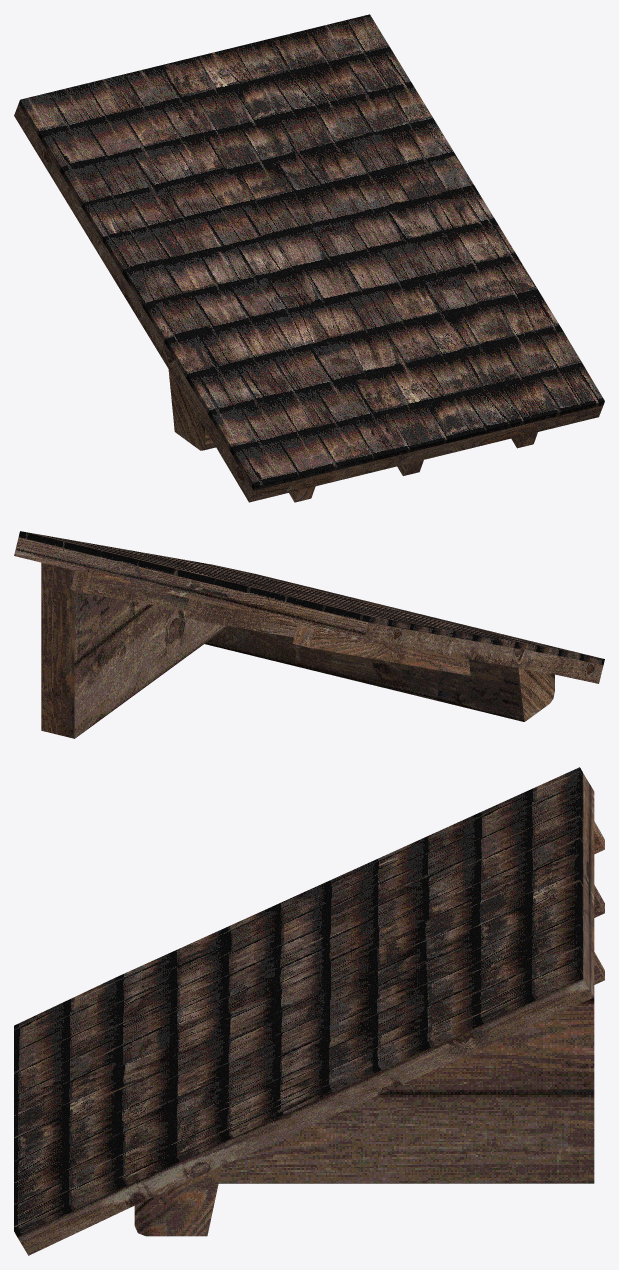
The model's file is roof-botR.glb.
3 renders of one model, top to bottom at view 1: azimuth 30°, elevation 25°; view 2: azimuth 150°, elevation 25°; view 3: azimuth 270°, elevation 25°, orthographic. The views are drawn at different scales.
Parts seen in each view (by area): view 1: roof-botR.001; view 2: roof-botR.001; view 3: roof-botR.001.
Boxes of the visible parts, x1,y1,x2,y2 form: roof-botR.001: (14, 14, 604, 502); roof-botR.001: (14, 531, 604, 738); roof-botR.001: (14, 767, 604, 1255).
Size of the model in its own units: 2.1 by 1.44 by 2.55.
Materials: 2 (2 with a texture image).
